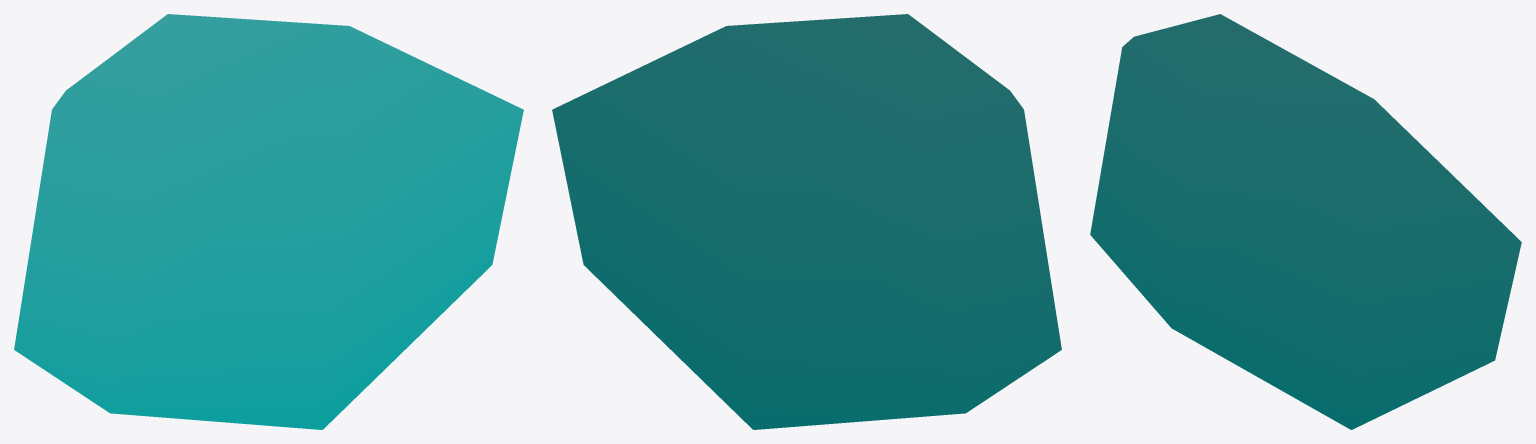
The model's file is Elderberry_wfzobb2ia_Mid_wfzobb2ia_VarF_LOD3.fbx.
3 views of the same model, side by side, from view 1: azimuth 30°, elevation 25°; view 2: azimuth 150°, elevation 25°; view 3: azimuth 330°, elevation 25° (orthographic). The views are drawn at different scales.
Visible parts, largest first — view 1: _bb7z_VarF_LOD6; view 2: _bb7z_VarF_LOD6; view 3: _bb7z_VarF_LOD6.
Boxes of the visible parts, x1,y1,x2,y2 form: _bb7z_VarF_LOD6: (14, 14, 523, 429); _bb7z_VarF_LOD6: (552, 14, 1061, 429); _bb7z_VarF_LOD6: (1090, 14, 1521, 429).
Size of the model in its own units: 101 by 85.47 by 0.
